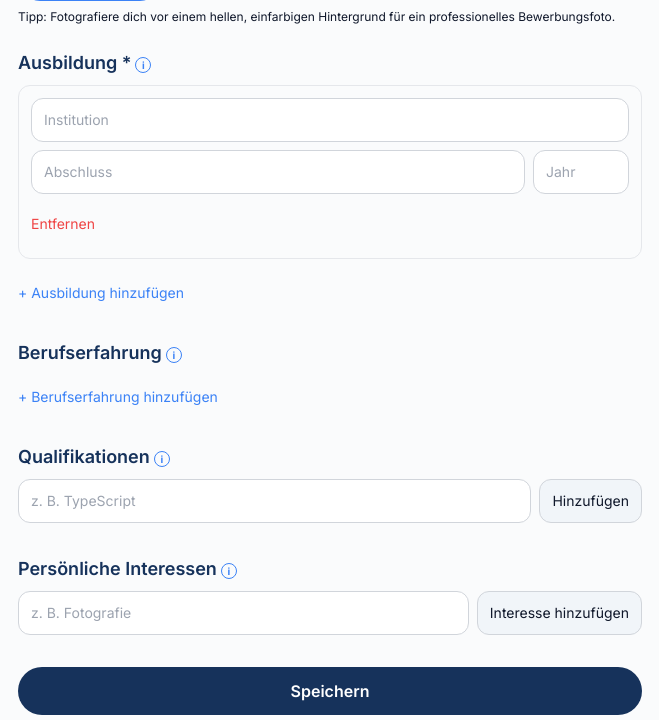
Test: ProfileForm › fügt ein persönliches Interesse hinzu und entfernt es wieder
(page scrolled)
Type "Wandern" into the field with placeholder "z. B. Fotografie". click: (243, 613)
box: [18,591,469,635]
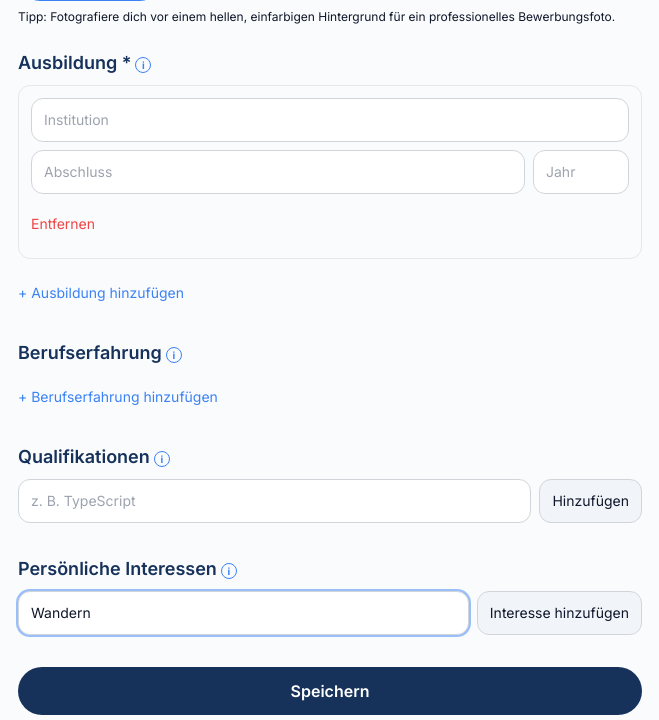
Click the button "Interesse hinzufügen". click: (559, 613)
box: [477,591,642,635]
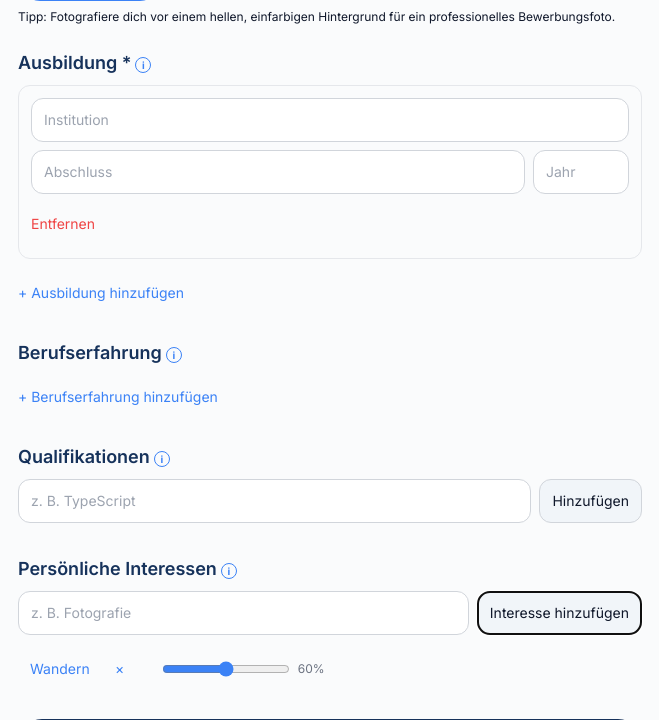
Result: the text "Wandern" is shown at [30,660,90,677]
Click the button named "wandern entfernen". click: (120, 669)
box: [98,647,142,691]
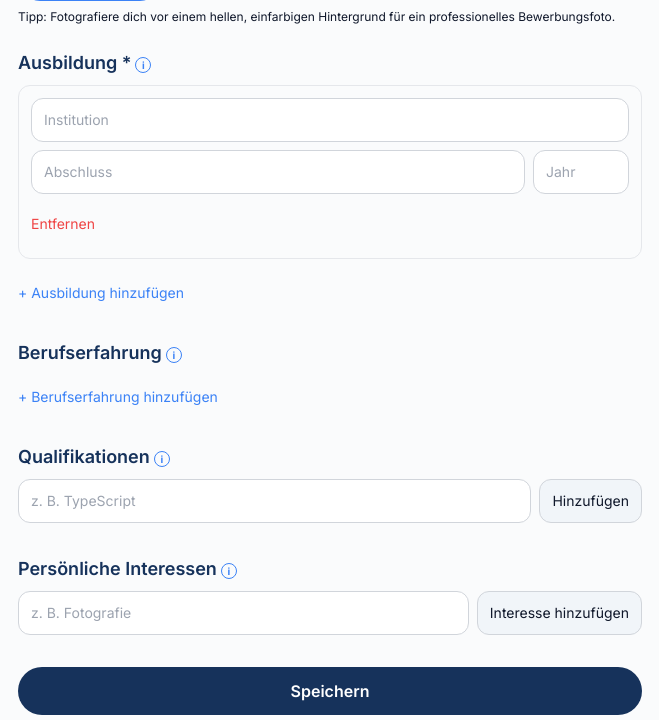
Result: the text "Wandern" is gone
